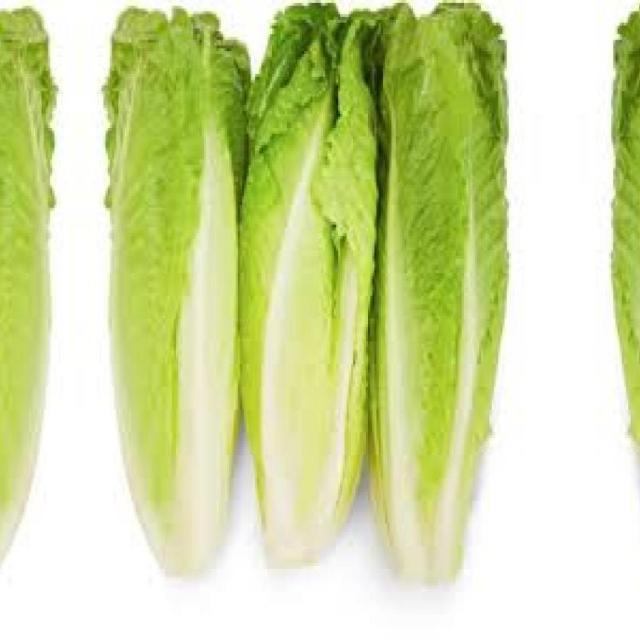healthy: (100, 8, 242, 586), (368, 1, 507, 583), (253, 3, 369, 580), (0, 8, 60, 585), (613, 1, 640, 583)
